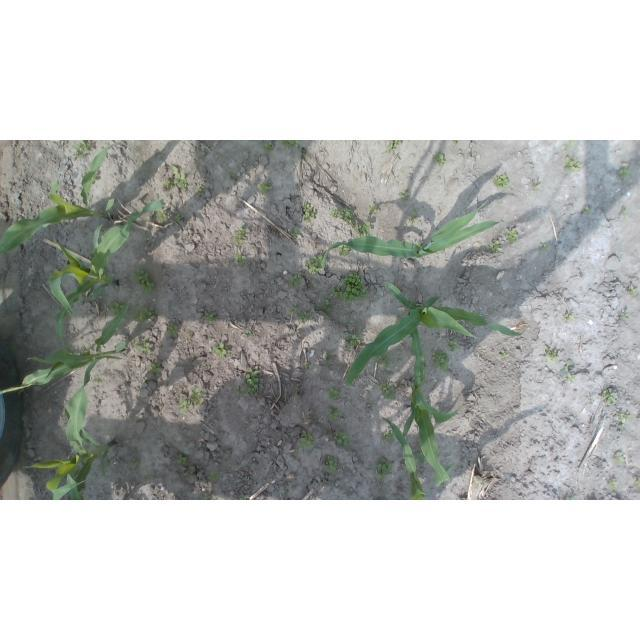Maize: (1, 299, 128, 457), (344, 282, 522, 386), (49, 200, 166, 356), (0, 140, 112, 252), (323, 206, 500, 270), (403, 328, 458, 489), (25, 402, 115, 500), (382, 416, 427, 500)
Weeds: (329, 271, 368, 301), (163, 164, 188, 193), (125, 304, 162, 323), (132, 269, 156, 296), (72, 140, 93, 160), (377, 457, 394, 481), (330, 208, 354, 225), (431, 349, 449, 371), (245, 369, 259, 396), (305, 256, 323, 277), (301, 201, 318, 223), (561, 360, 576, 383), (380, 382, 397, 401), (492, 174, 510, 191), (334, 430, 352, 447), (343, 333, 361, 350), (299, 431, 315, 450), (214, 343, 231, 360), (563, 156, 581, 172), (106, 300, 124, 316), (406, 208, 419, 229), (234, 225, 247, 246), (600, 388, 617, 404), (544, 345, 558, 364), (354, 222, 371, 237), (413, 446, 427, 464), (324, 455, 338, 472), (287, 274, 301, 291), (192, 388, 205, 406), (504, 227, 518, 243), (297, 309, 313, 323), (156, 208, 169, 225), (257, 181, 272, 195), (378, 352, 391, 368), (387, 140, 403, 153), (447, 337, 461, 351), (381, 431, 395, 445), (327, 386, 340, 400), (433, 152, 446, 166), (180, 399, 192, 414), (280, 140, 300, 149), (329, 406, 340, 422), (141, 339, 152, 355), (234, 252, 246, 266), (490, 240, 503, 252), (619, 166, 631, 179), (398, 189, 410, 202), (615, 412, 632, 421), (338, 244, 350, 256), (128, 457, 140, 469), (262, 141, 274, 153), (149, 363, 162, 374), (167, 324, 178, 337), (71, 347, 91, 354), (615, 452, 626, 464), (208, 471, 219, 483), (323, 300, 333, 313), (566, 141, 577, 152), (628, 286, 639, 297), (129, 339, 140, 350), (229, 170, 239, 182), (205, 313, 215, 324), (235, 386, 245, 397), (194, 184, 203, 196), (531, 180, 541, 190), (564, 313, 574, 323), (177, 454, 187, 464), (184, 470, 196, 478), (369, 205, 378, 215), (610, 481, 619, 491), (326, 352, 335, 362), (174, 212, 183, 222), (633, 476, 640, 488), (621, 310, 630, 319), (499, 350, 508, 358), (291, 228, 299, 237), (289, 306, 297, 314), (540, 243, 549, 250), (417, 241, 425, 248), (584, 206, 591, 214), (205, 492, 212, 500), (245, 331, 253, 338), (93, 377, 105, 381), (303, 363, 312, 368), (286, 488, 291, 497), (622, 210, 629, 216), (315, 304, 322, 310), (618, 425, 626, 430), (240, 494, 246, 500), (143, 475, 149, 481), (301, 150, 306, 157), (294, 449, 299, 455), (273, 310, 278, 315), (439, 250, 445, 254), (458, 497, 466, 500), (565, 498, 576, 500), (453, 141, 458, 144), (638, 418, 640, 421), (378, 499, 382, 500)
